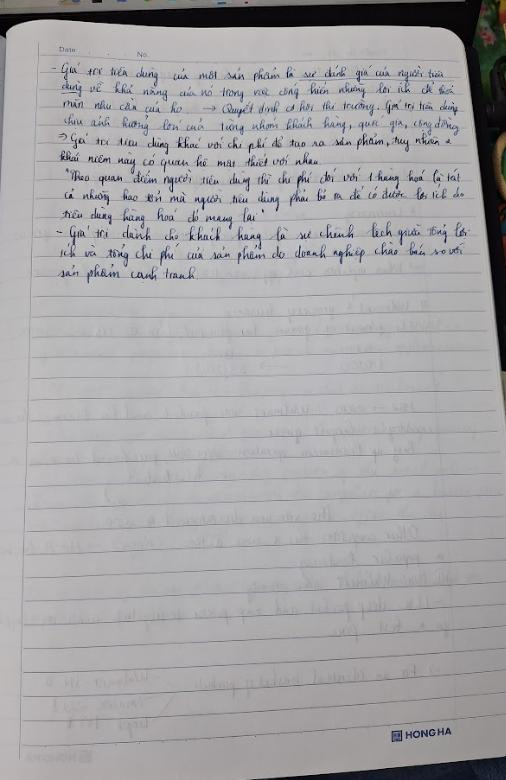text: (54, 219, 470, 250), (52, 239, 469, 268), (60, 166, 462, 193), (59, 184, 466, 209), (58, 79, 458, 103), (58, 113, 462, 136), (50, 61, 446, 83), (60, 97, 463, 118), (57, 131, 454, 152), (57, 149, 321, 173), (57, 204, 267, 230), (54, 261, 199, 286), (401, 724, 454, 743), (57, 44, 79, 54), (132, 49, 150, 59)
